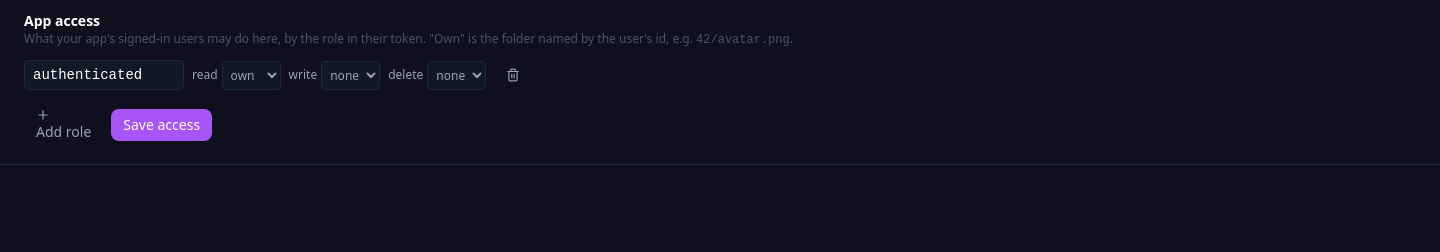
Test case: Storage — app access rules › a bad or repeated role name is explained and nothing is sent
Click the button "Add role": [64, 125] box [24,102,103,148]
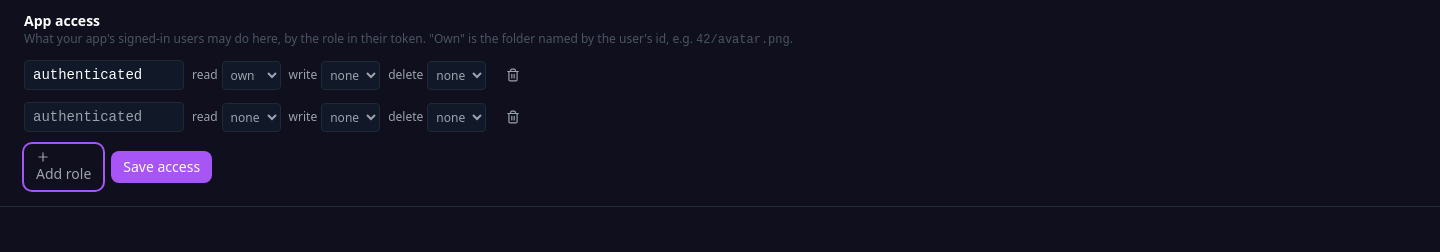
In the field named "Role name": [104, 117] box [24,102,184,132], type "Staff-Team"
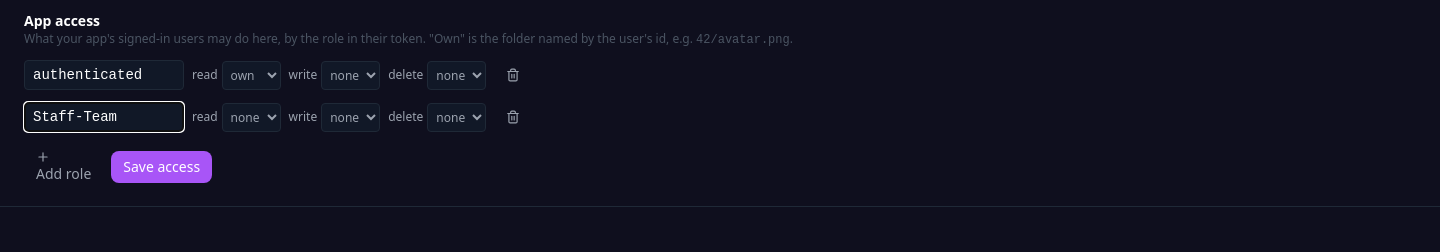
Click the button "Save access": [162, 167] box [111,151,212,183]
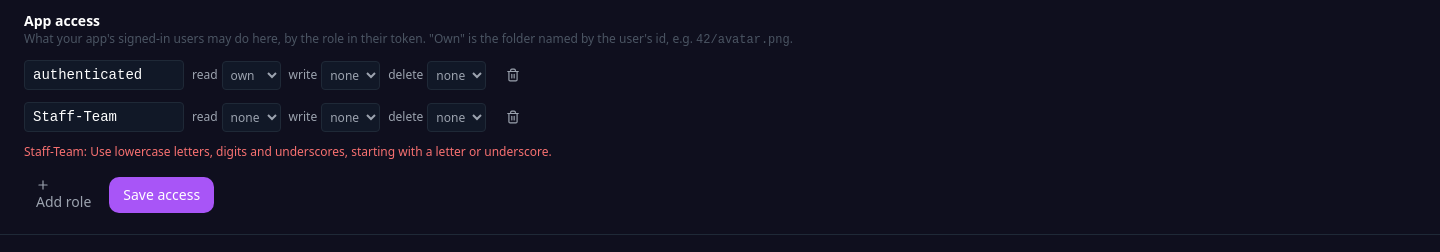
Expected: the message shows "lowercase letters, digits and underscores", [24,143,552,160]
Replace the text in the 2nd field named "Role name" with "authenticated": [104, 117] box [24,102,184,132]
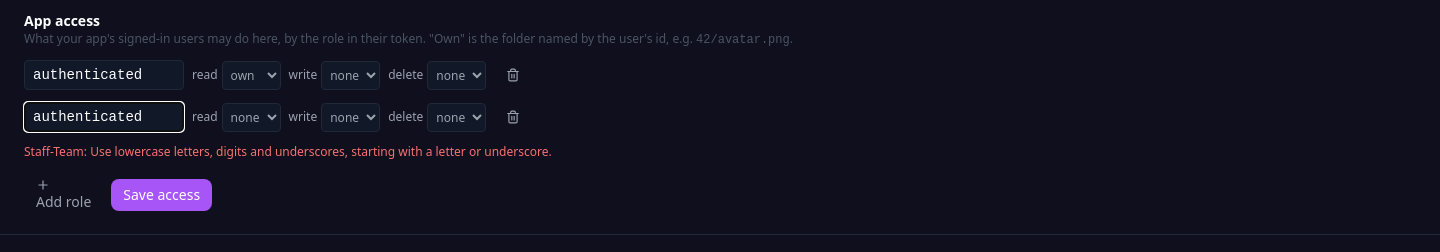
Click the button "Save access": [162, 195] box [111,179,212,211]
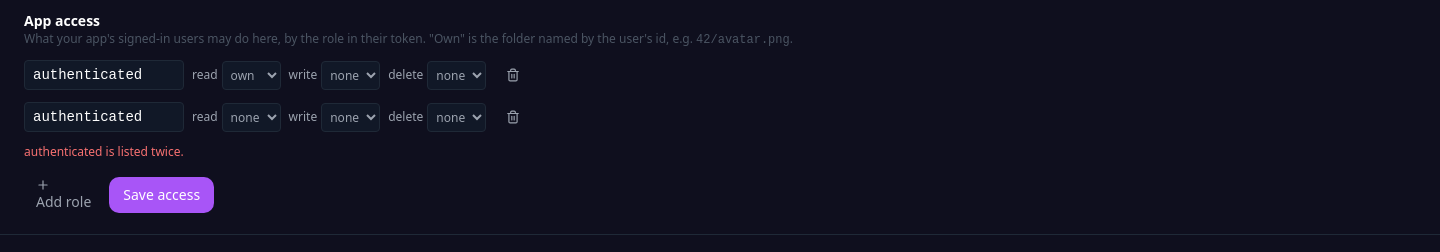
Expected: the message shows "twice", [24,143,184,160]
